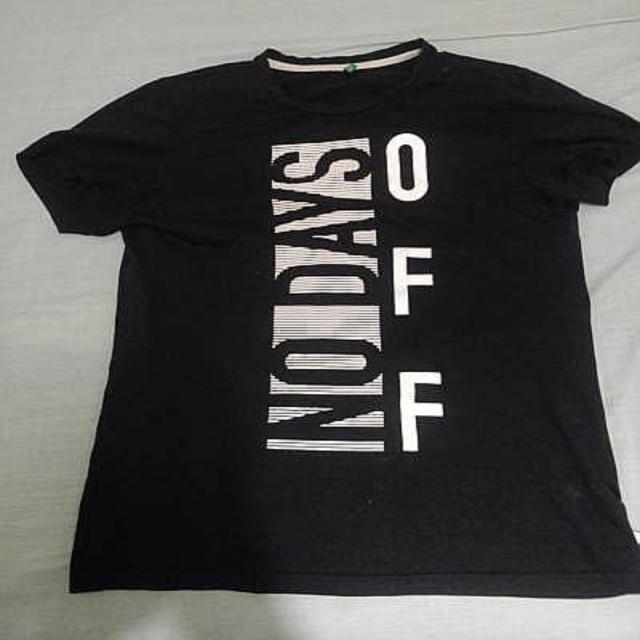T_SHIRT: (14, 31, 640, 611)
